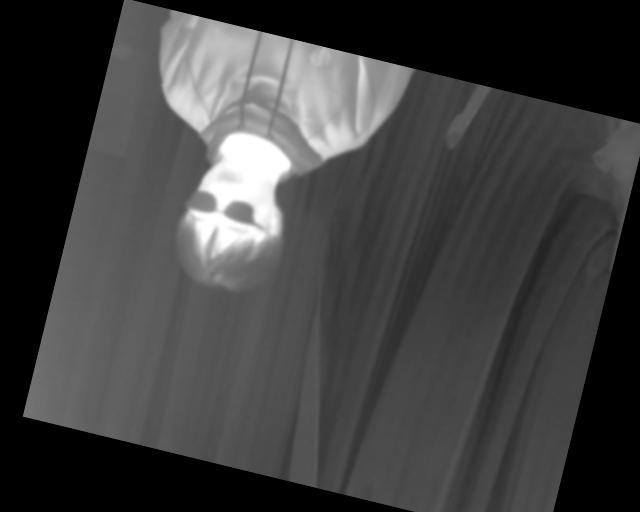face: (164, 149, 300, 301)
